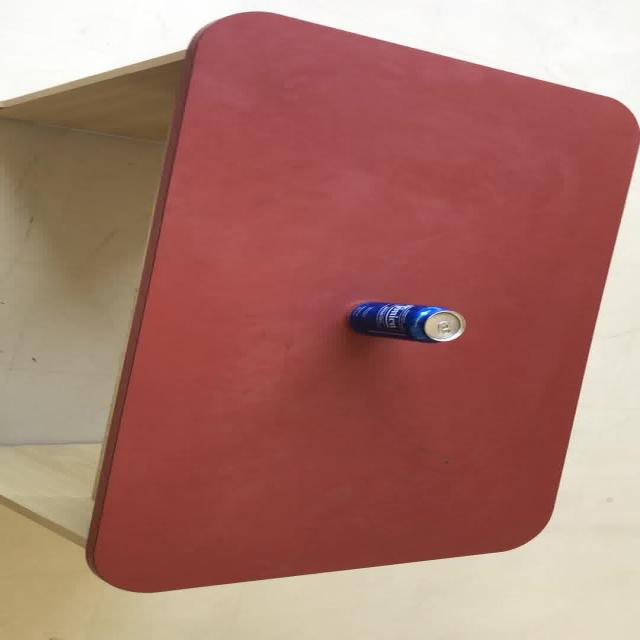tonic: (346, 300, 466, 343)
